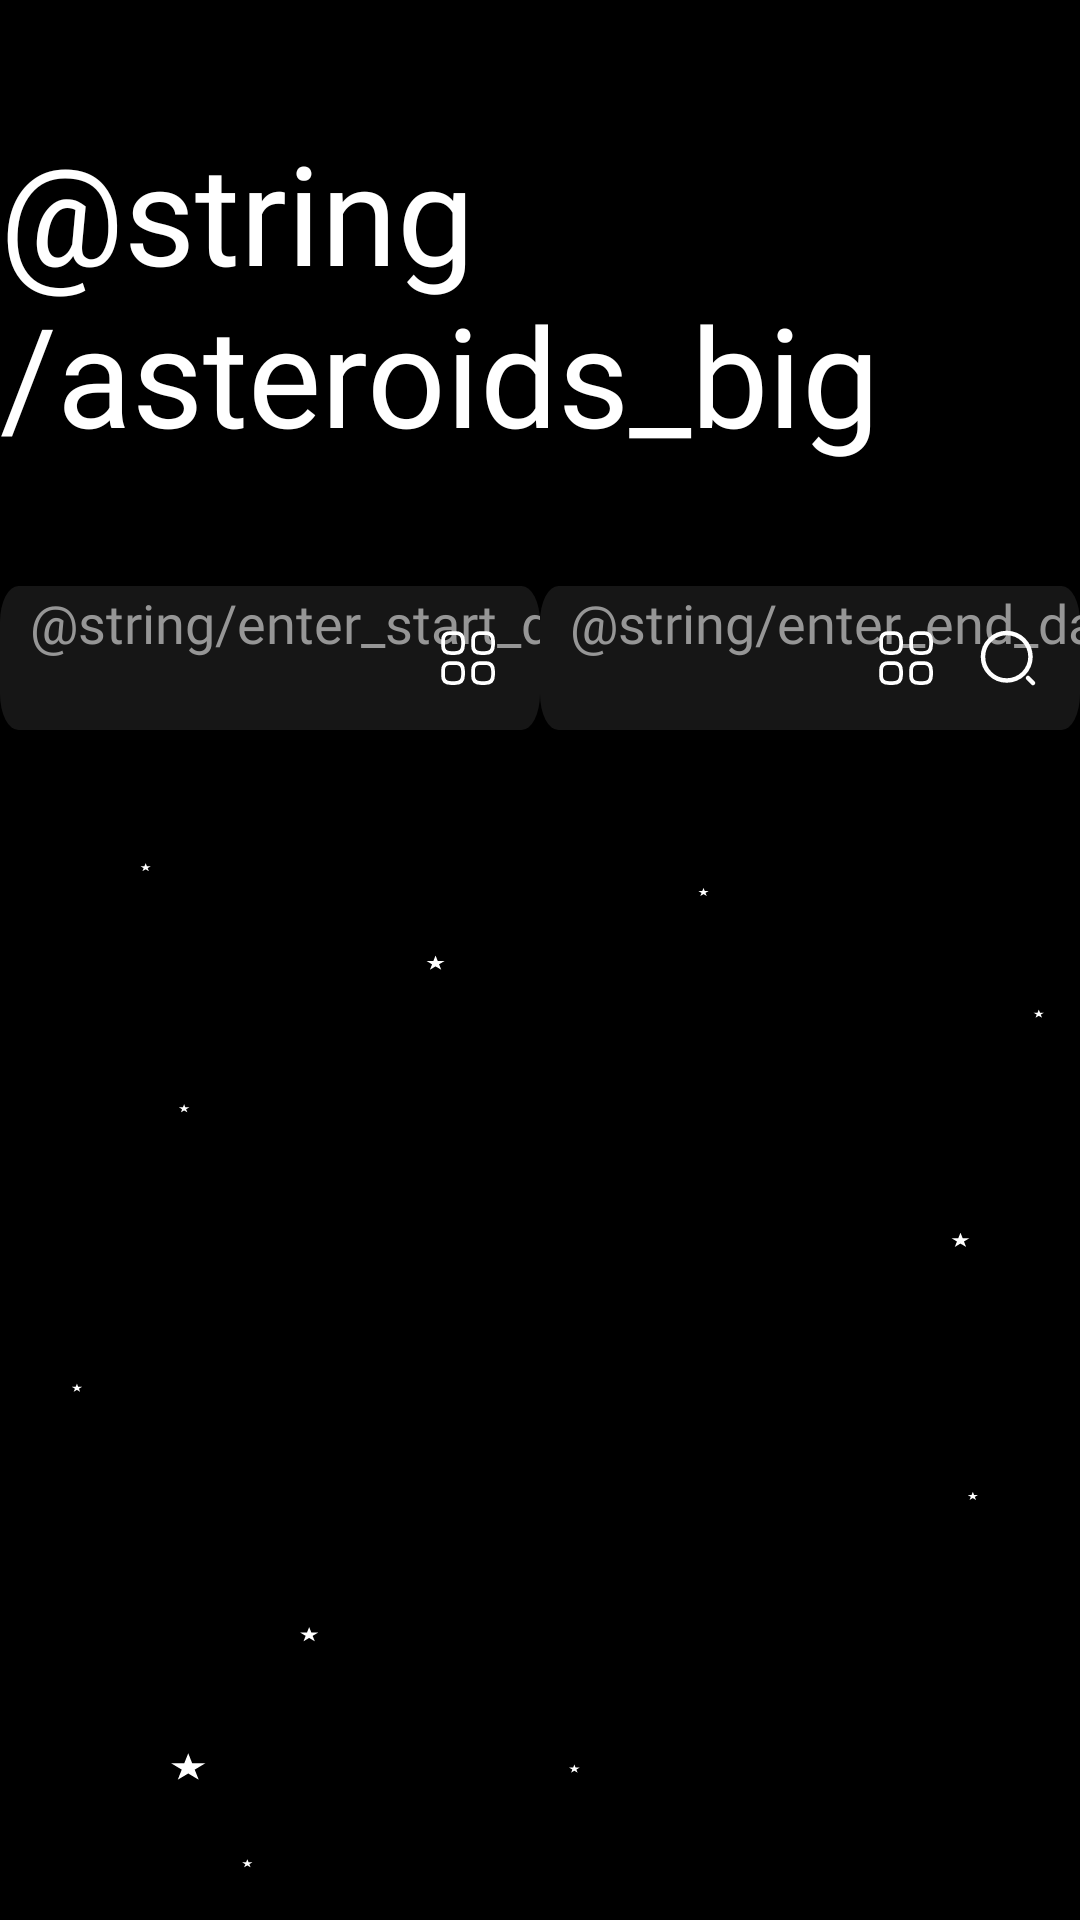

Icon bounding boxes for this 1080x1920 phone screenshot, format box=[x1, y1, x2, y2]:
category: box=[438, 628, 498, 685], box=[876, 628, 936, 685]
search: box=[978, 628, 1038, 686]
